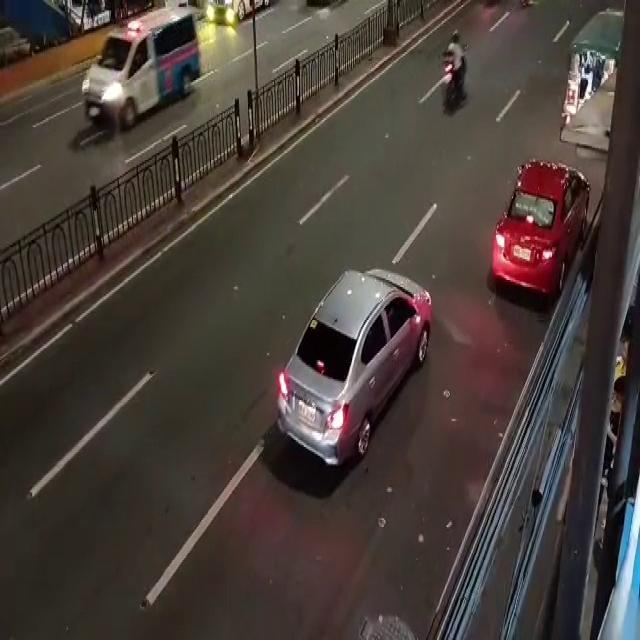car: (271, 264, 444, 466), (496, 148, 588, 317), (81, 20, 200, 126)
motorcycle: (439, 23, 475, 118)
